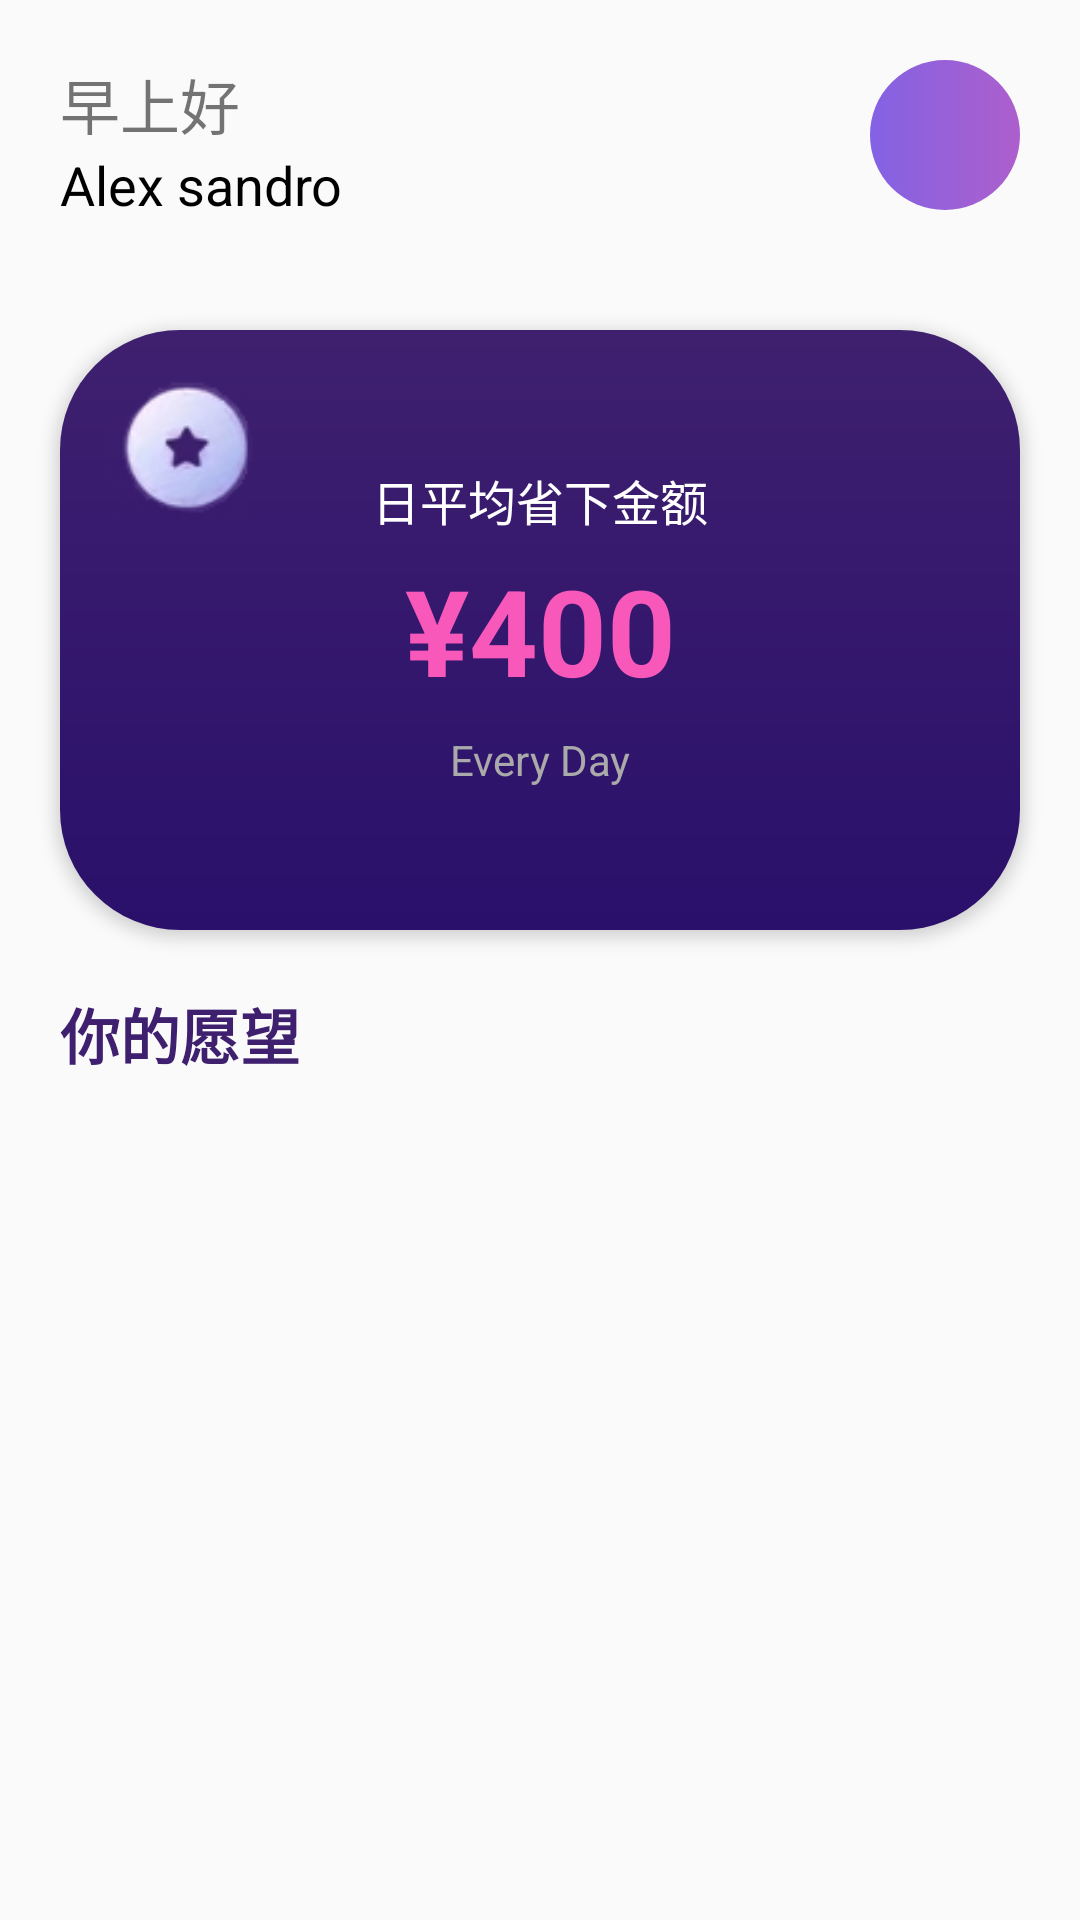

Locate icon controls on the screen. Image size 1080x1920, boxes as (x1, y1, x2, y2).
star: (124, 386, 248, 510)
